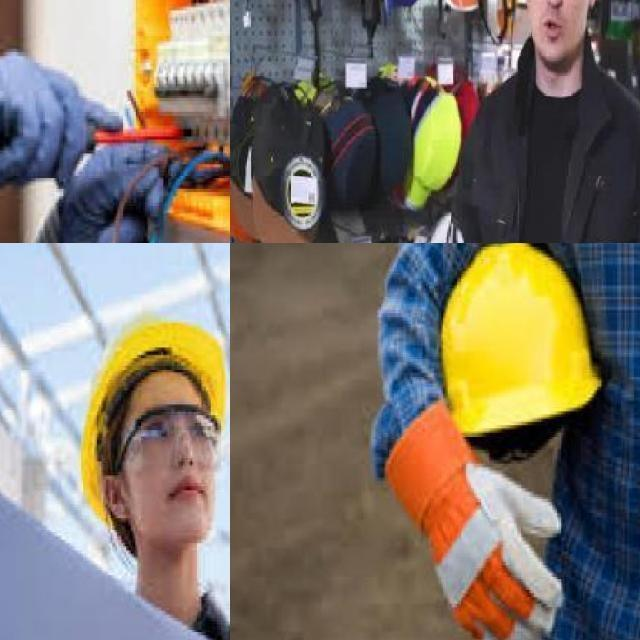apron: (381, 409, 558, 640), (11, 150, 168, 243), (0, 38, 97, 180)
